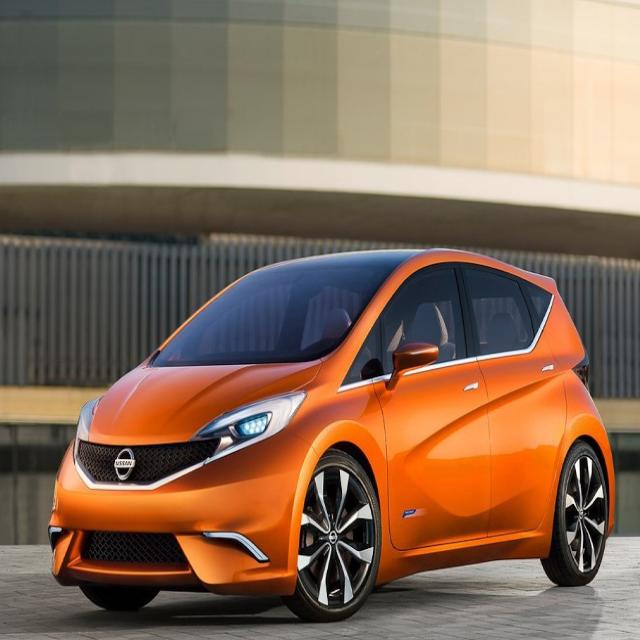back_left_side_light: (570, 342, 592, 398)
door: (450, 254, 570, 564)
front_bumper: (48, 423, 322, 597)
front_glass: (150, 250, 414, 368)
front_left_side_door: (369, 255, 494, 561)
front_left_side_light: (192, 390, 306, 466)
front_left_side_mirror: (386, 340, 439, 390)
wheel: (285, 452, 383, 621), (540, 440, 609, 586)
